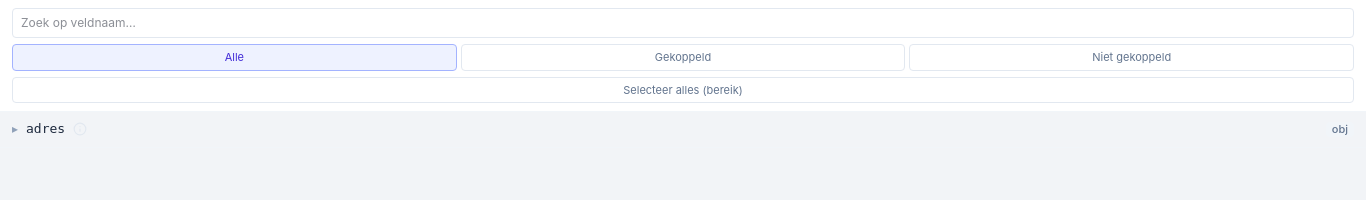
it: SourceSchemaPanel › renders children of a field as an expandable subtree
The width and height of the screenshot is (1366, 200).
Click the button with test id "field-toggle-adres". click: (39,129)
box: [12,120,65,139]
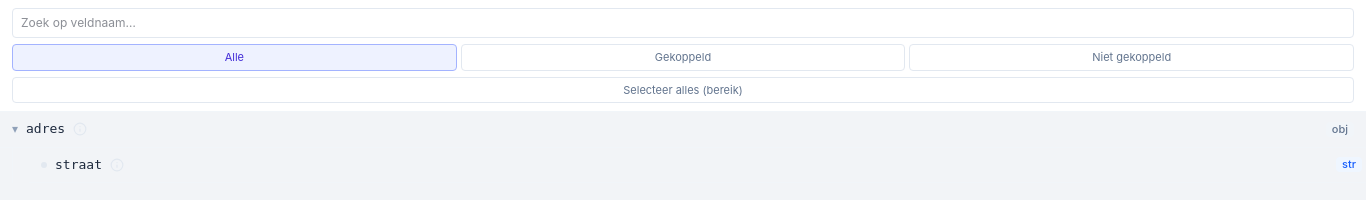
Expected: the element with test id "field-children-adres" is shown, [12,148,1365,183]
